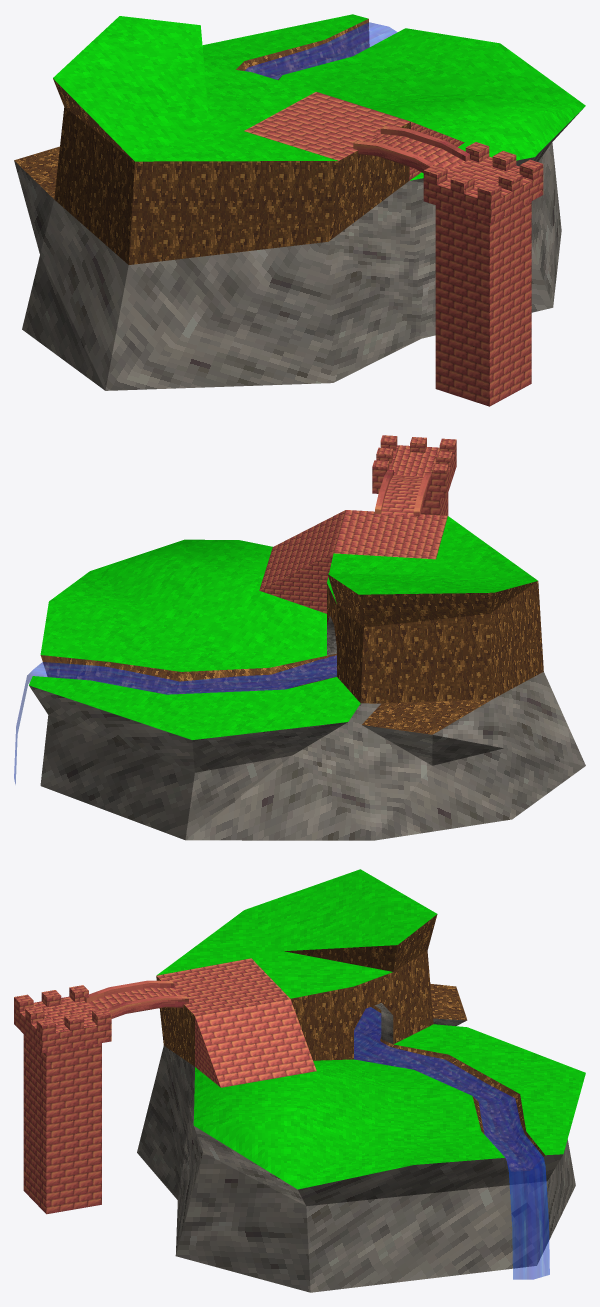
The model's file is Test_Dung2.glb.
The picture shows the model from 3 angles, top to bottom: view 1: azimuth 30°, elevation 25°; view 2: azimuth 150°, elevation 25°; view 3: azimuth 270°, elevation 25°; orthographic projection. The views are drawn at different scales.
Parts seen in each view (by area): view 1: Level-col, Water; view 2: Level-col, Water; view 3: Level-col, Water.
Part boxes in pixels (x1,y1,x2,y2): Level-col: (14,14,585,406); Water: (245,22,397,79); Level-col: (29,435,585,840); Water: (14,655,336,784); Level-col: (14,869,585,1292); Water: (354,1007,549,1279).
Size of the model in its own units: 106 by 48.56 by 114.
5 materials, 5 textured.
